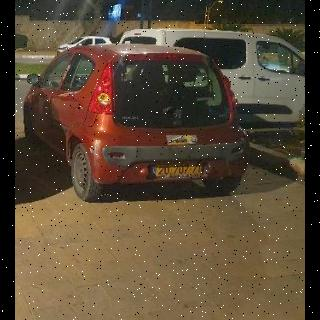LicensePlate: (156, 161, 202, 176)
